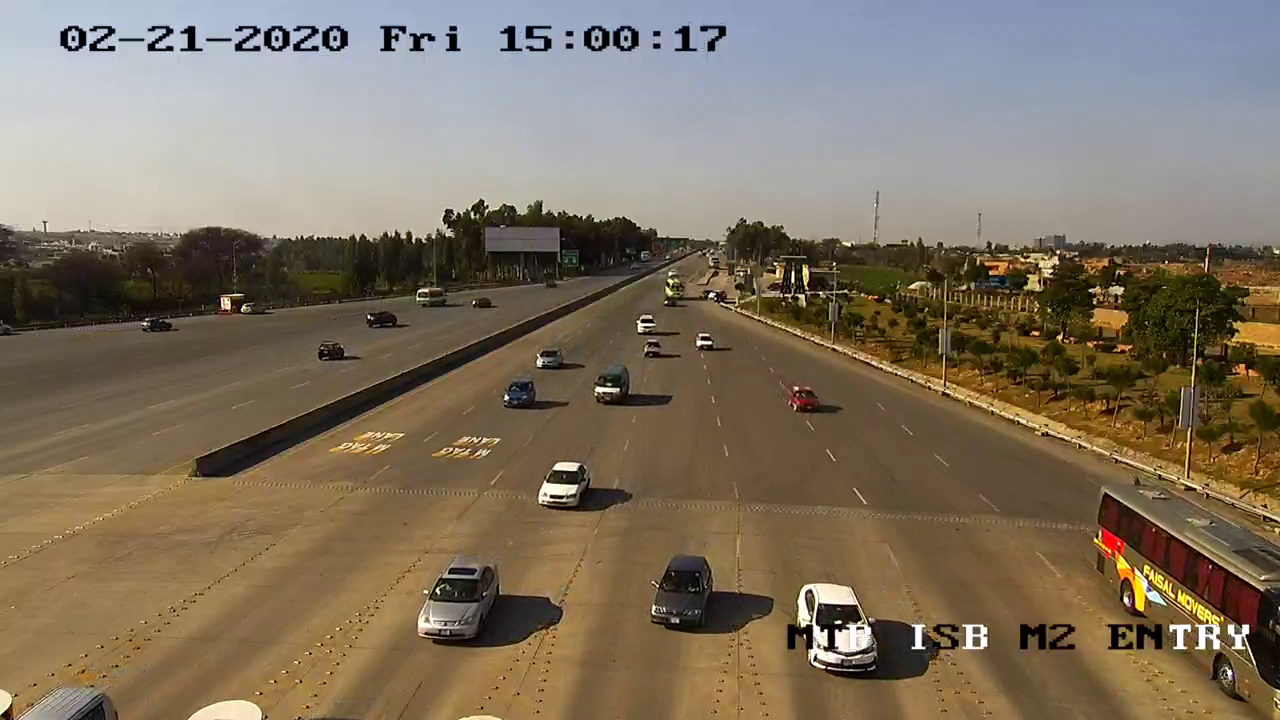f1: (408, 545, 505, 654), (642, 546, 719, 641), (531, 457, 595, 517), (779, 381, 826, 423)
f2: (583, 362, 635, 416)
